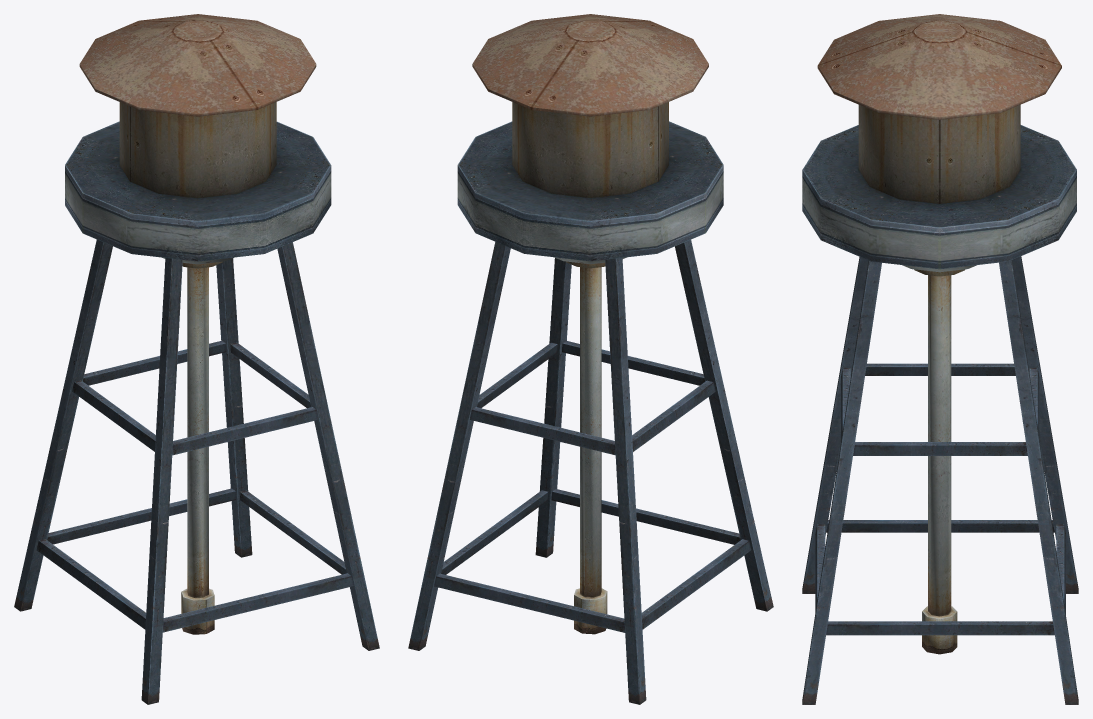
Rendered from Prop_St01.glb.
The picture shows the model from 3 angles, left to right: view 1: azimuth 30°, elevation 25°; view 2: azimuth 150°, elevation 25°; view 3: azimuth 270°, elevation 25°; orthographic projection. The views are drawn at different scales.
Visible parts, largest first — view 1: xiutz_st_01; view 2: xiutz_st_01; view 3: xiutz_st_01.
Part boxes in pixels (x1,y1,x2,y2): xiutz_st_01: [14, 14, 379, 704]; xiutz_st_01: [408, 14, 773, 704]; xiutz_st_01: [802, 14, 1078, 704].
Bounding box in the file's own units: 7.26 × 17.89 × 7.26.
1 material, 1 textured.
